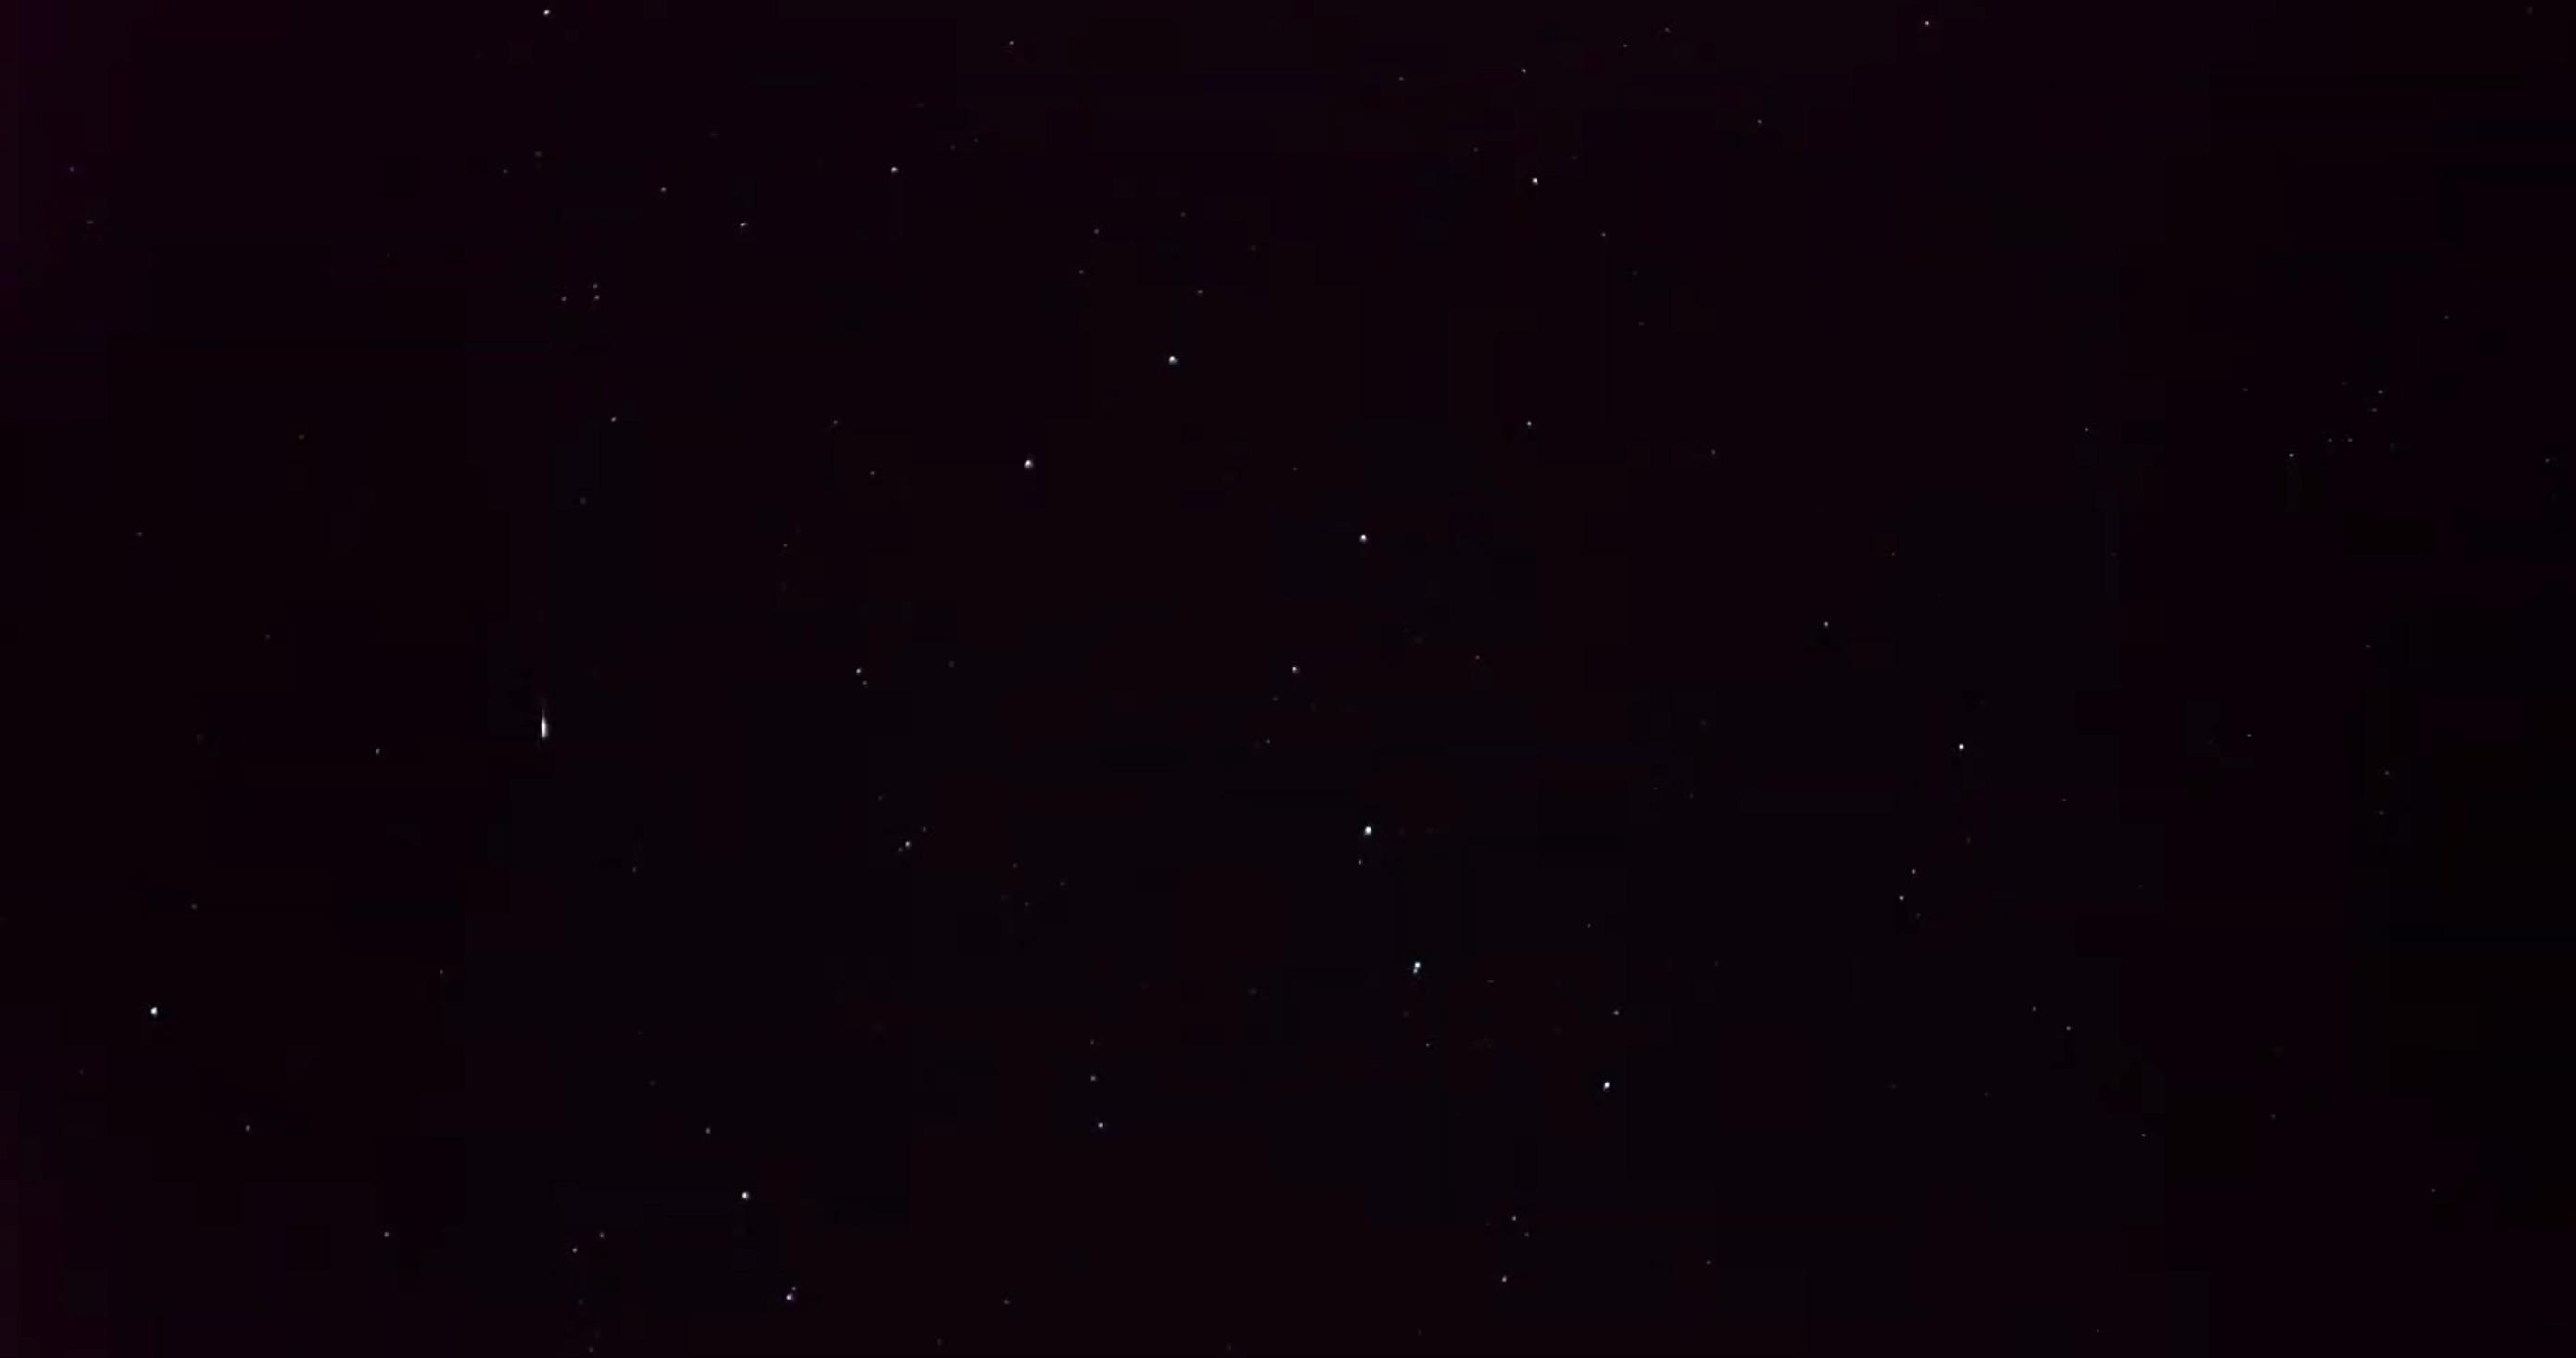meteorite: (520, 671, 562, 767)
